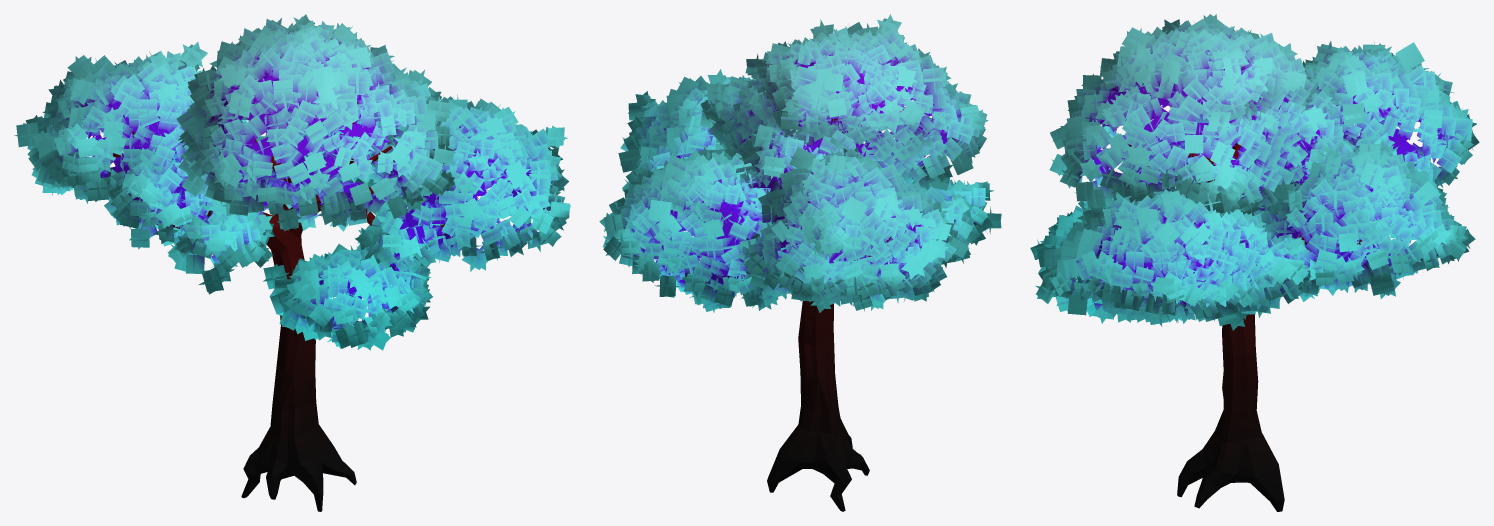
Rendered from Arbol03.fbx.
3 views of the same model, side by side, from view 1: azimuth 30°, elevation 25°; view 2: azimuth 150°, elevation 25°; view 3: azimuth 270°, elevation 25° (orthographic). The views are drawn at different scales.
Visible parts, largest first — view 1: SM_Env_Tree_Forest_03_LOD0; view 2: SM_Env_Tree_Forest_03_LOD0; view 3: SM_Env_Tree_Forest_03_LOD0.
Part boxes in pixels (x1,y1,x2,y2): SM_Env_Tree_Forest_03_LOD0: (14, 14, 570, 511); SM_Env_Tree_Forest_03_LOD0: (599, 14, 1001, 511); SM_Env_Tree_Forest_03_LOD0: (1030, 14, 1479, 511).
Size of the model in its own units: 964 by 867 by 1011.
